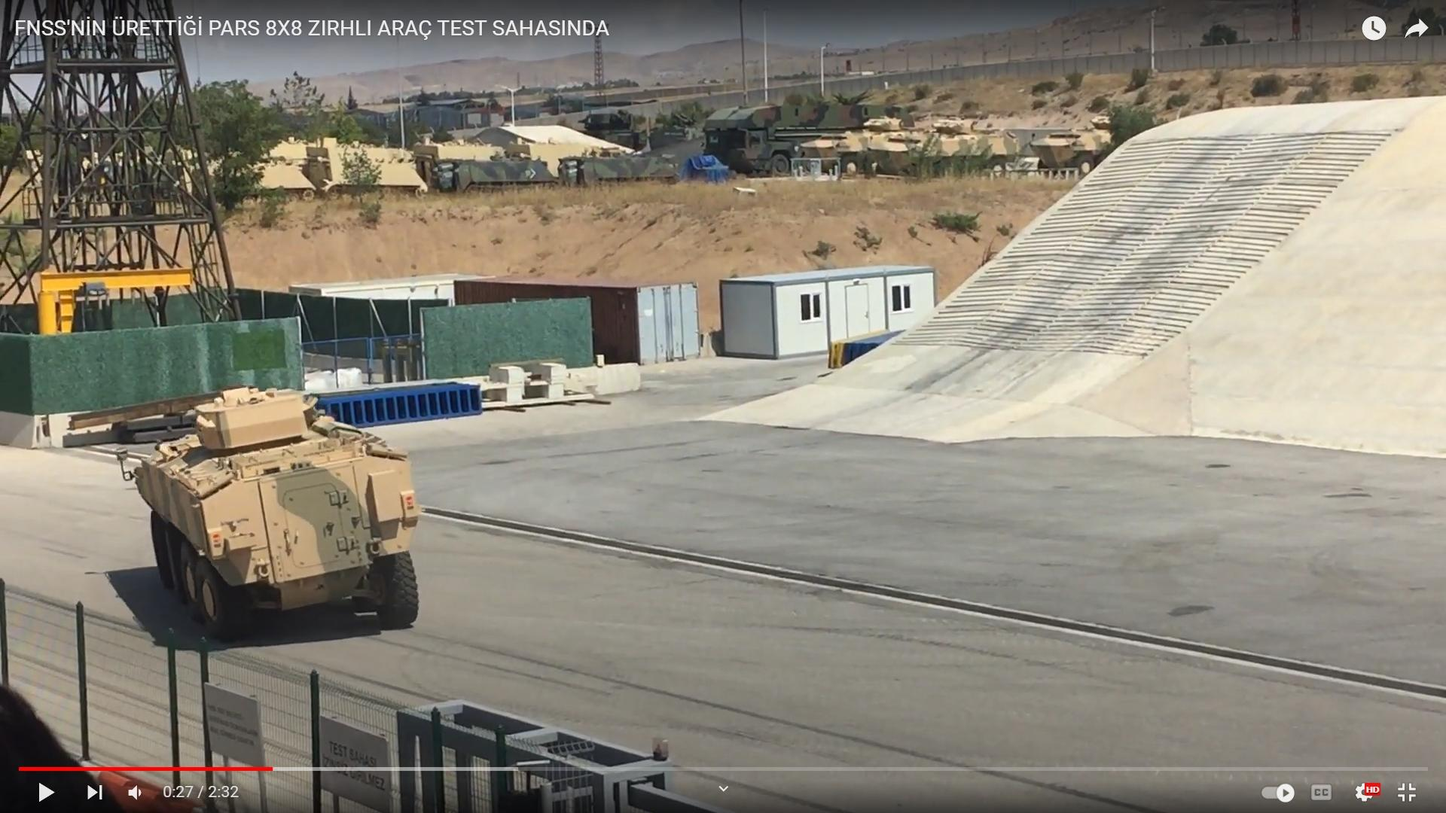armored_car: (126, 386, 427, 646)
